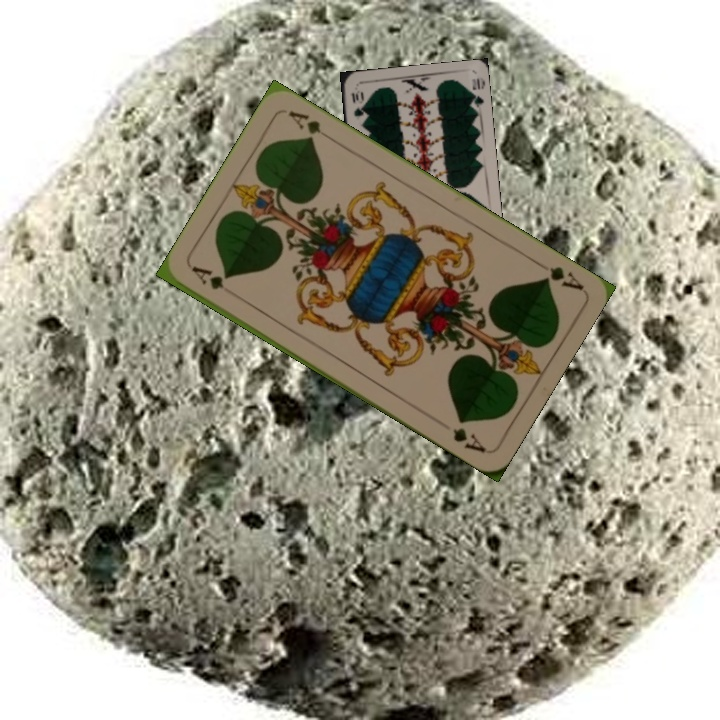G10: (347, 86, 366, 119)
GA: (531, 257, 586, 293), (188, 262, 227, 293)
